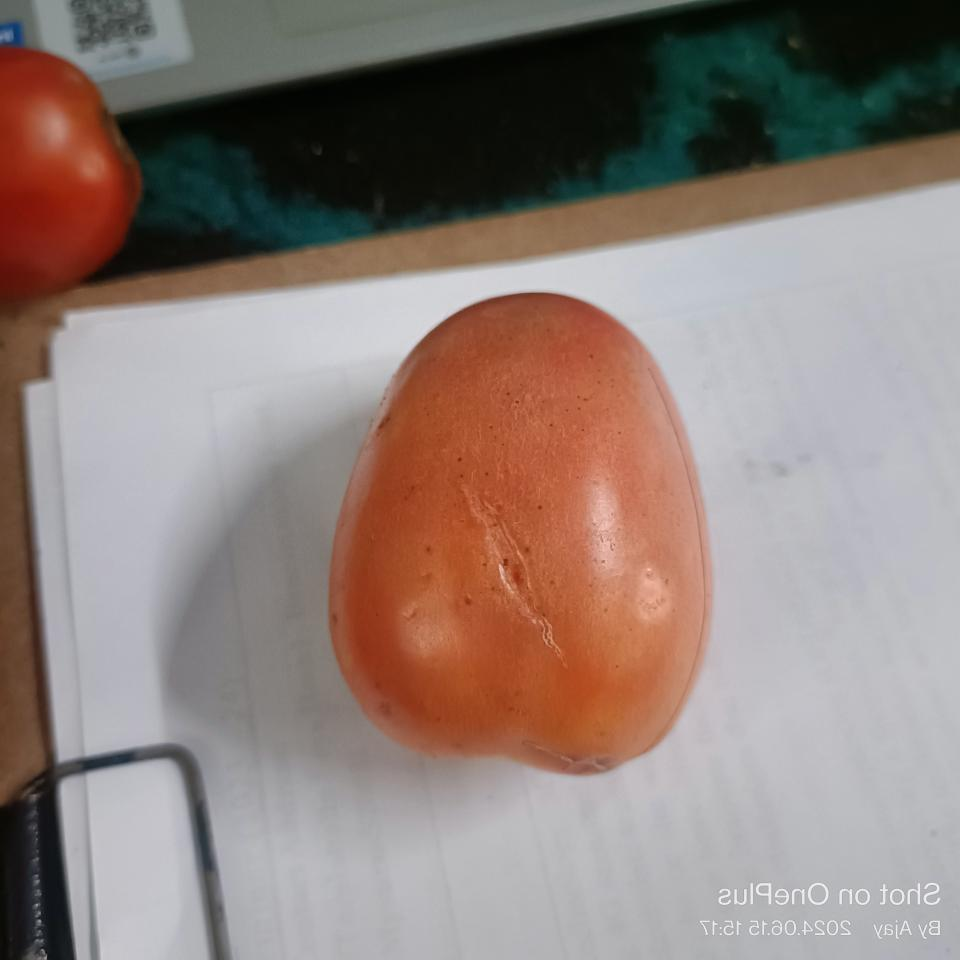Cracking: (472, 487, 586, 670)
